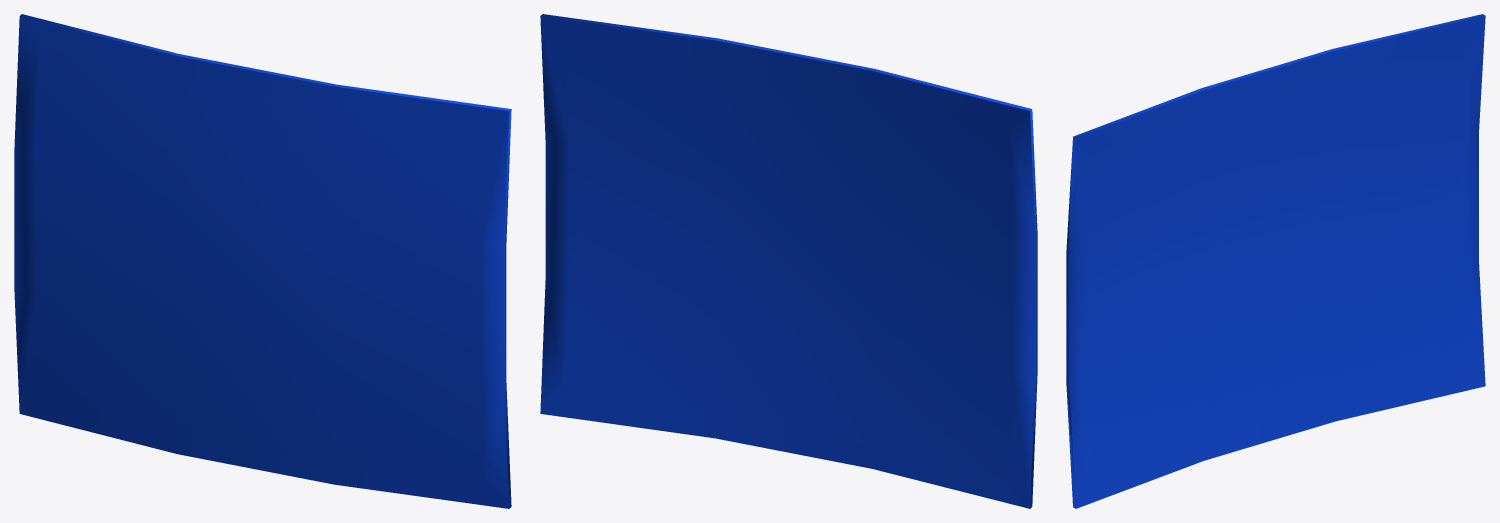
Rendered from screen.glb.
The picture shows the model from 3 angles, left to right: view 1: azimuth 30°, elevation 25°; view 2: azimuth 210°, elevation 25°; view 3: azimuth 270°, elevation 25°; orthographic projection. The views are drawn at different scales.
Parts seen in each view (by area): view 1: monitor_retroscreenpos; view 2: monitor_retroscreenpos; view 3: monitor_retroscreenpos.
Part boxes in pixels (box(x1,y1,x2,y2)): monitor_retroscreenpos: box(14, 14, 511, 508); monitor_retroscreenpos: box(540, 14, 1037, 508); monitor_retroscreenpos: box(1066, 14, 1485, 508).
Bounding box in the file's own units: 1.56 × 2.1 × 2.15.
